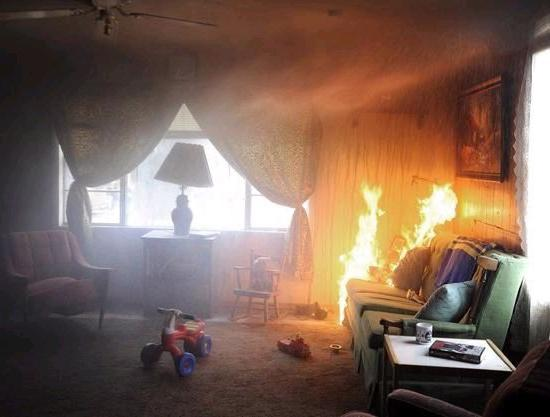fire: (333, 181, 387, 327), (402, 175, 460, 290)
